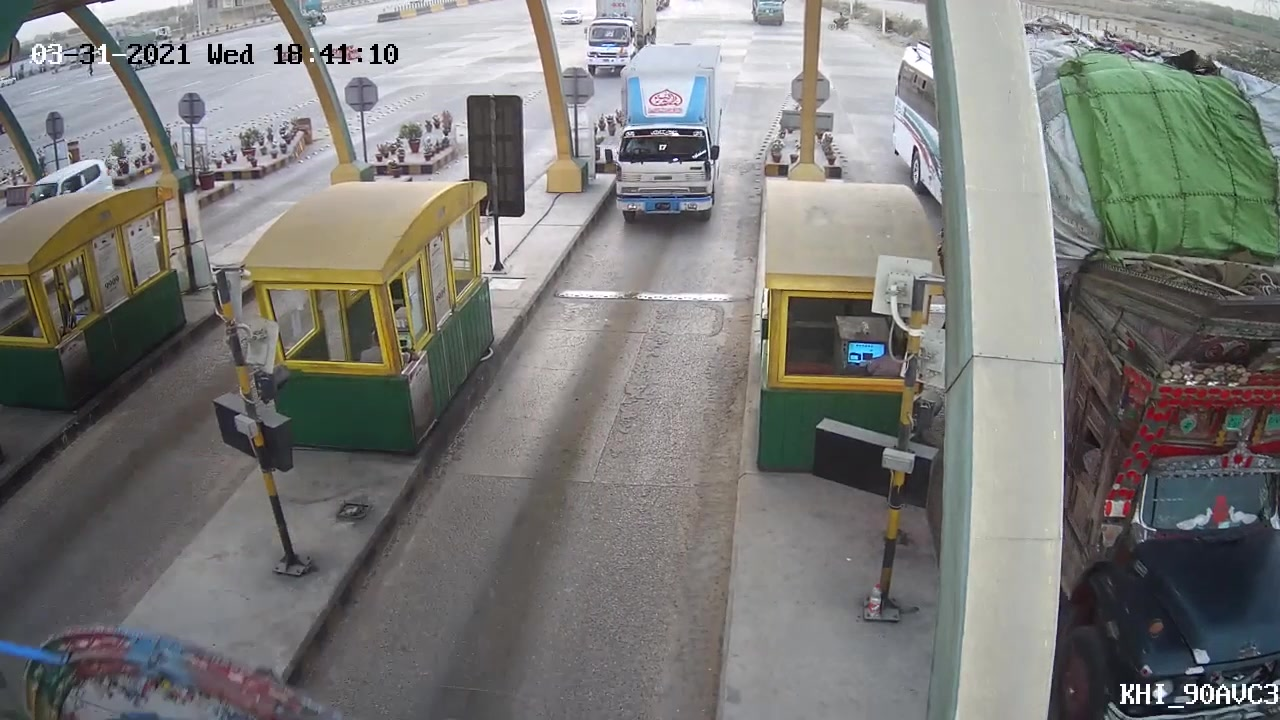F5: (605, 40, 732, 230)
